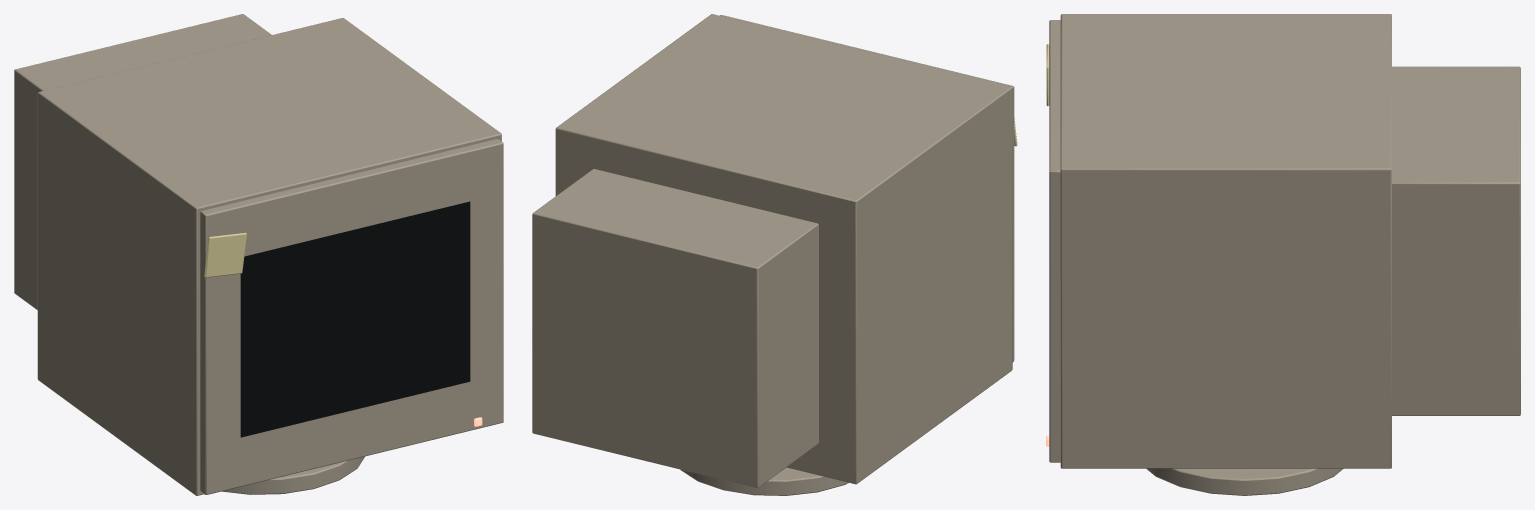
The model's file is SM_F_TV_DeskCRT.fbx.
3 views of the same model, side by side, from view 1: azimuth 30°, elevation 25°; view 2: azimuth 150°, elevation 25°; view 3: azimuth 270°, elevation 25° (orthographic). The views are drawn at different scales.
Parts seen in each view (by area): view 1: SM_F_TV_DeskCRT__Body, SM_F_TV_DeskCRT__Screen; view 2: SM_F_TV_DeskCRT__Body; view 3: SM_F_TV_DeskCRT__Body.
Part boxes in pixels (x1=…): SM_F_TV_DeskCRT__Body: x1=14, y1=14, x2=503, y2=495; SM_F_TV_DeskCRT__Screen: x1=240, y1=201, x2=470, y2=437; SM_F_TV_DeskCRT__Body: x1=532, y1=14, x2=1017, y2=495; SM_F_TV_DeskCRT__Body: x1=1046, y1=14, x2=1520, y2=495.
Bounding box in the file's own units: 0.4 × 0.43 × 0.516.
